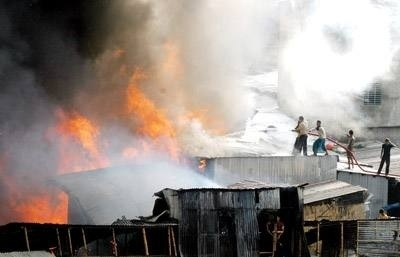fire: (47, 55, 209, 172)
